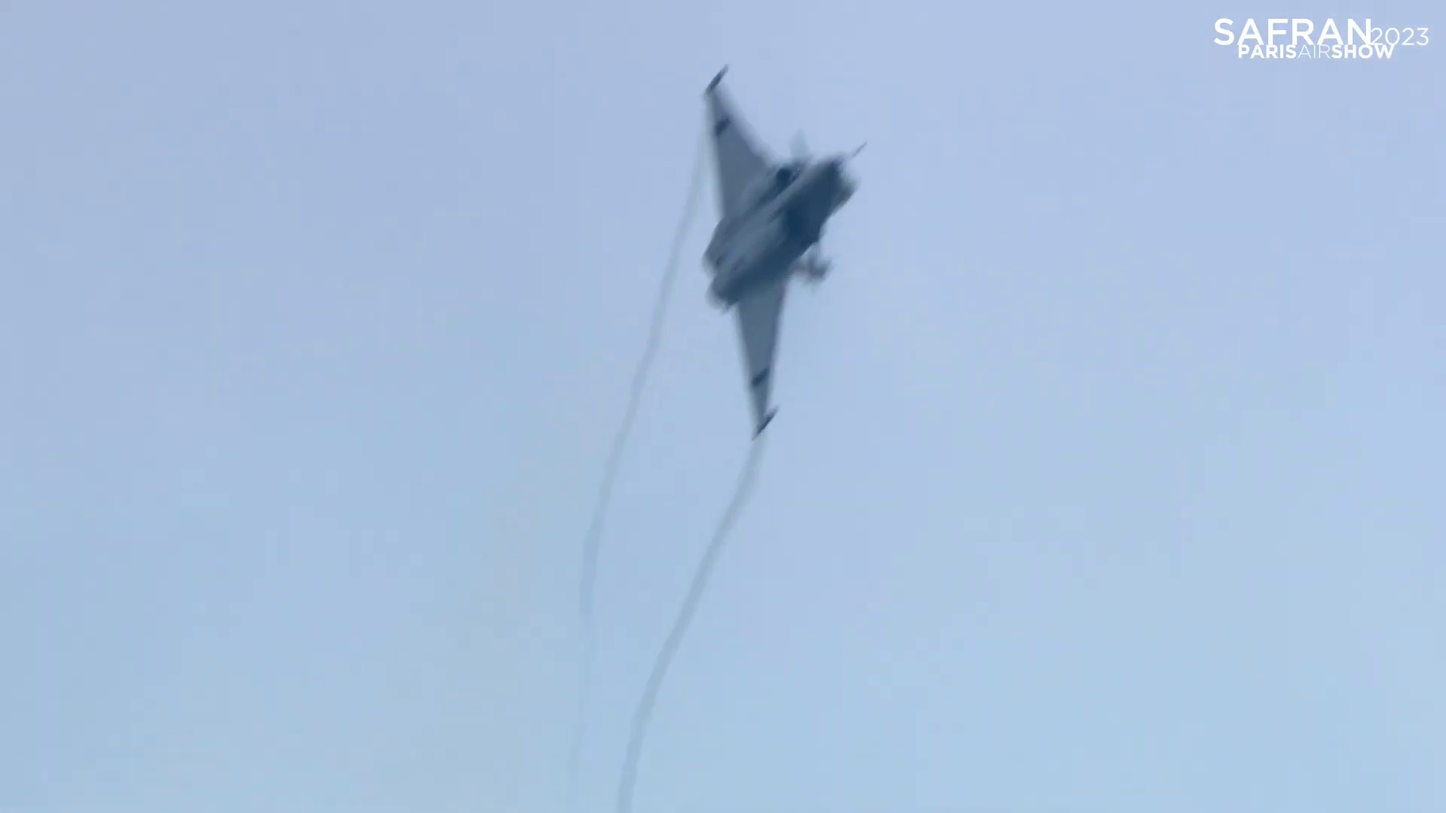Rafale: (695, 62, 867, 437)
